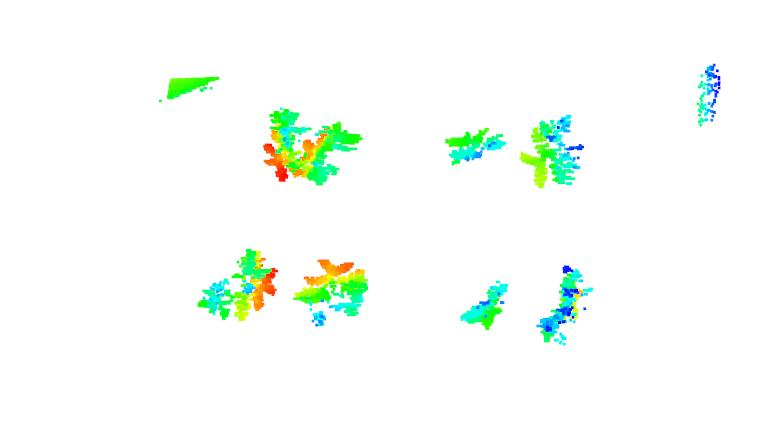chickpea: (259, 106, 363, 186), (193, 247, 279, 322), (292, 256, 370, 327), (520, 114, 584, 187), (538, 265, 587, 348), (442, 121, 510, 167), (458, 281, 513, 334)
